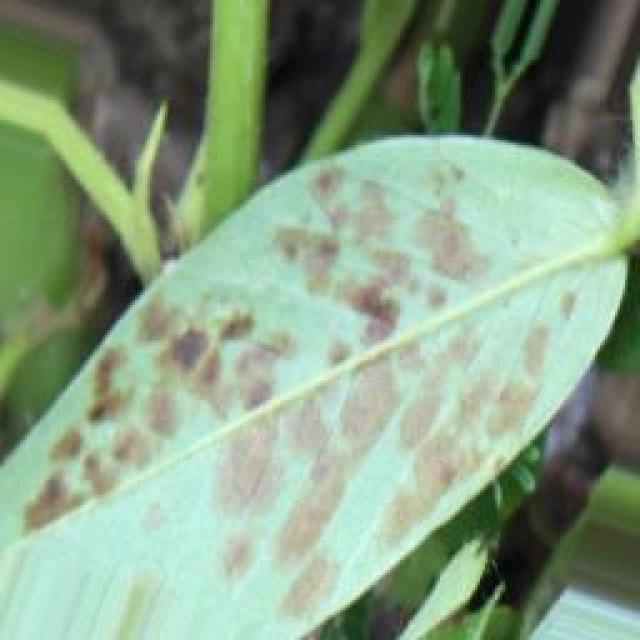Whitefly: (30, 142, 559, 539)
